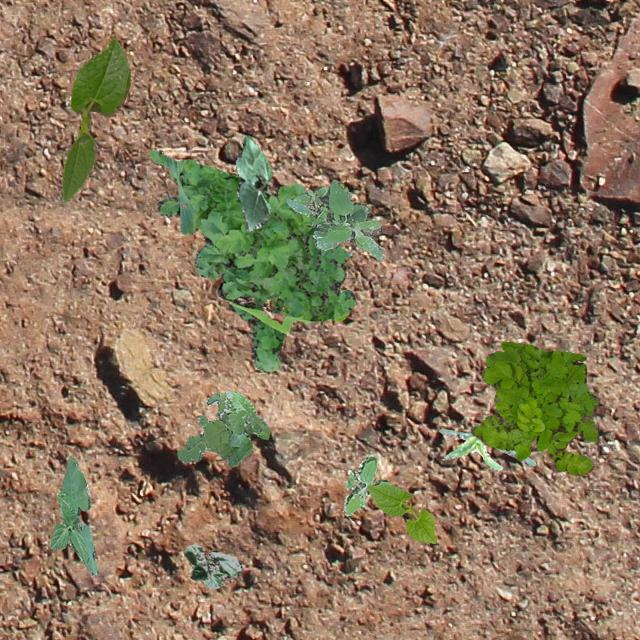crop: (60, 39, 130, 202), (48, 454, 96, 574), (366, 483, 436, 542), (438, 428, 534, 468), (234, 134, 272, 230), (183, 544, 240, 588)
weed: (148, 148, 354, 370), (470, 341, 598, 474), (286, 178, 384, 260), (176, 390, 270, 466), (342, 456, 389, 514)
